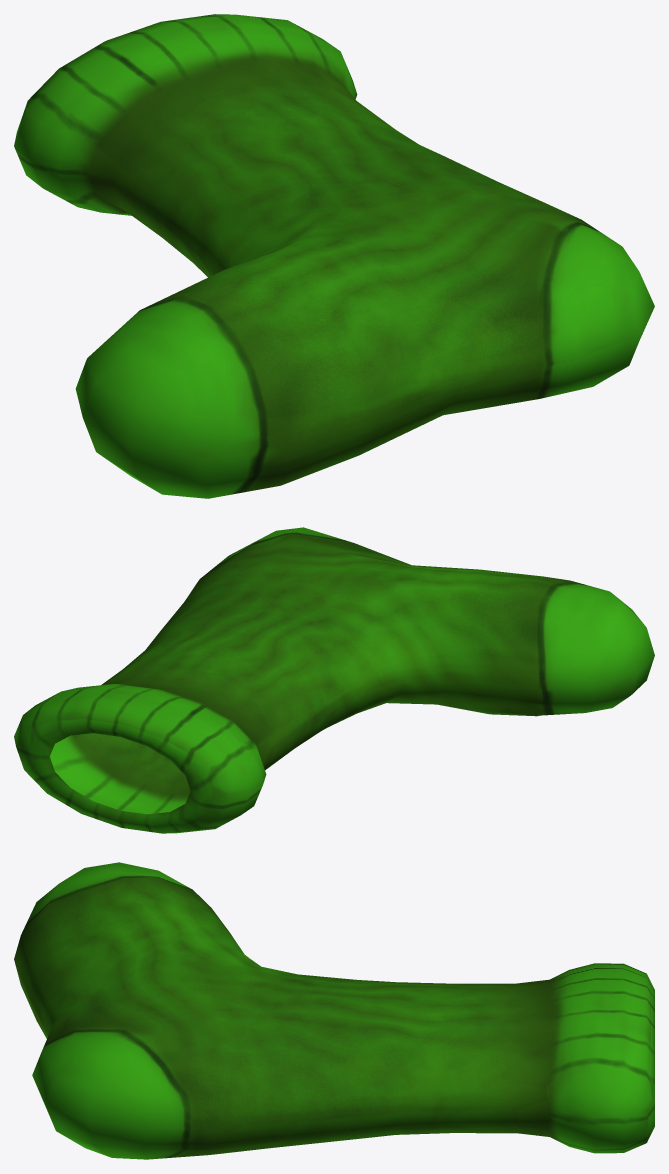
The model's file is sock.fbx.
3 views of the same model, one above another, from view 1: azimuth 30°, elevation 25°; view 2: azimuth 150°, elevation 25°; view 3: azimuth 270°, elevation 25° (orthographic). The views are drawn at different scales.
Visible parts, largest first — view 1: Sock; view 2: Sock; view 3: Sock.
Part boxes in pixels (x1,y1,x2,y2): Sock: [14, 14, 654, 498]; Sock: [14, 527, 654, 833]; Sock: [14, 862, 654, 1159].
Bounding box in the file's own units: 442 × 132 × 530.
